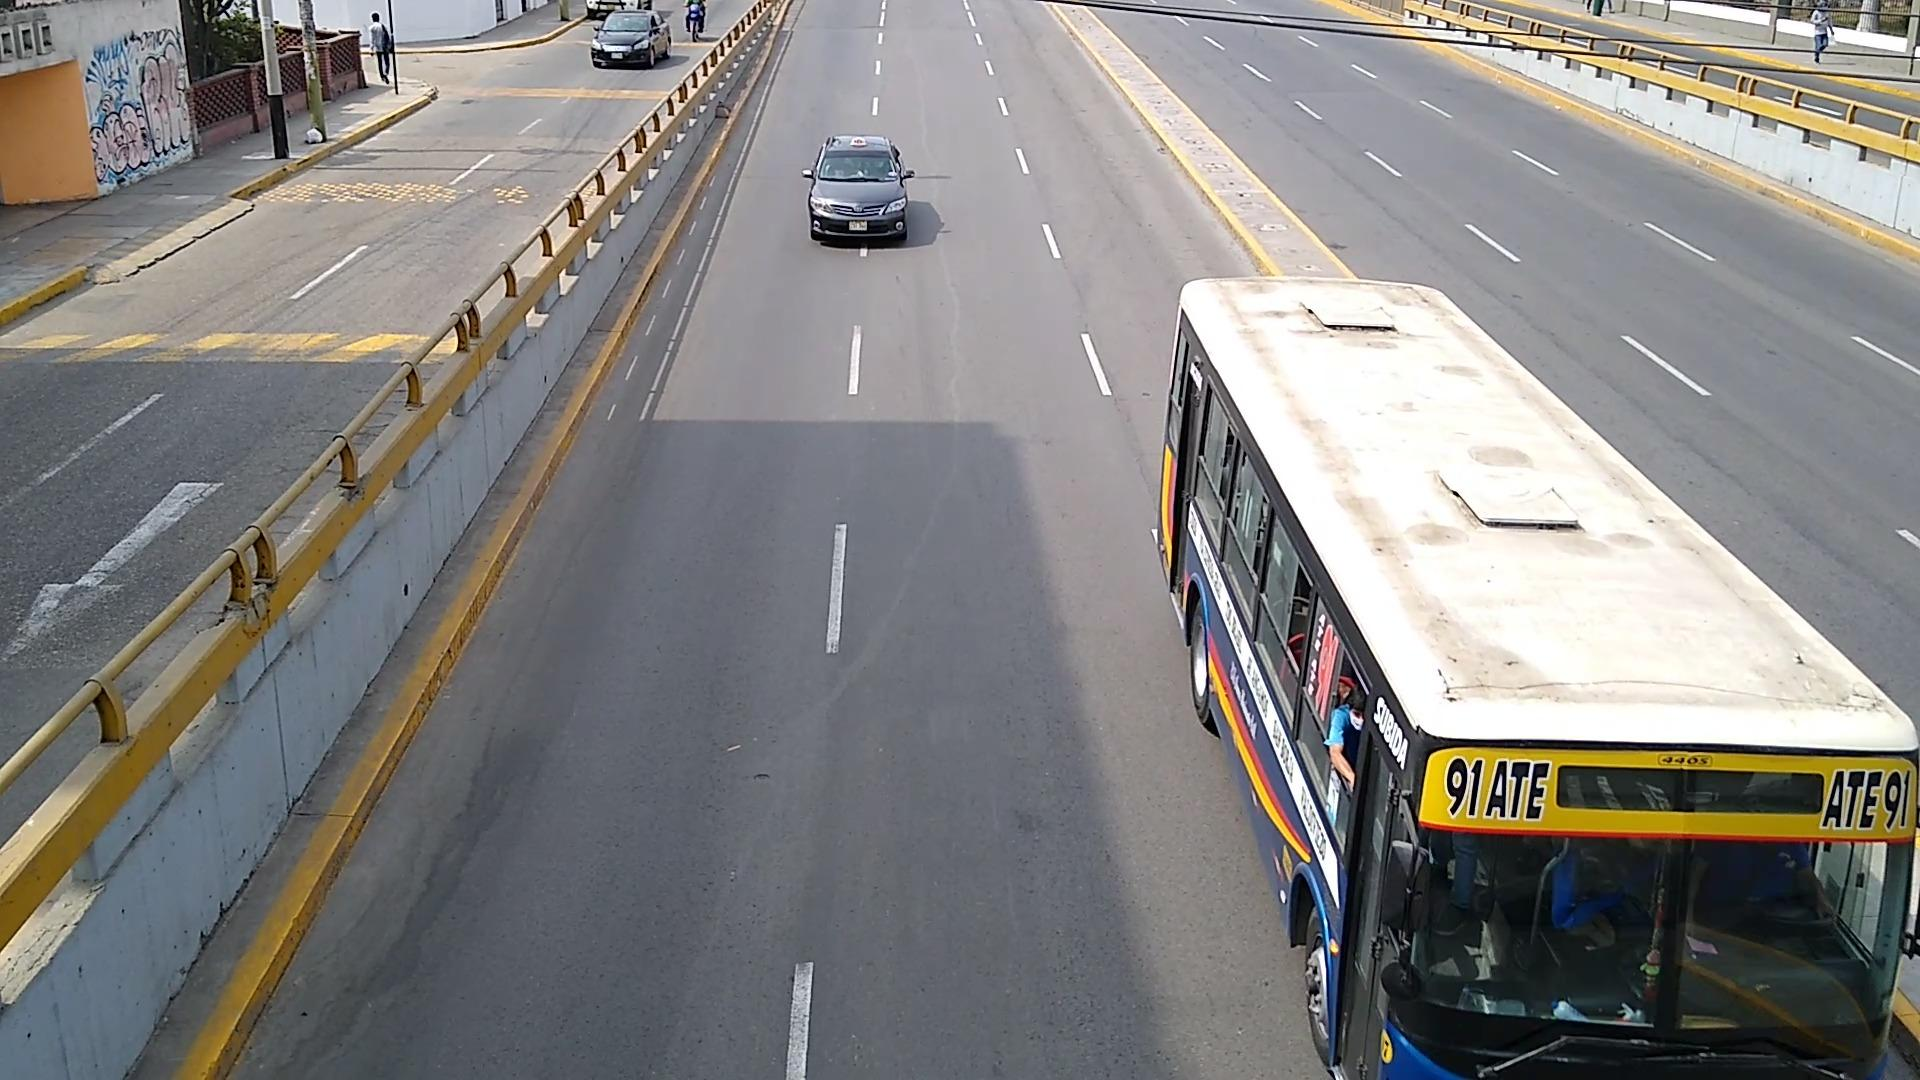bus: (1159, 277, 1920, 1080)
car: (803, 135, 915, 240)
